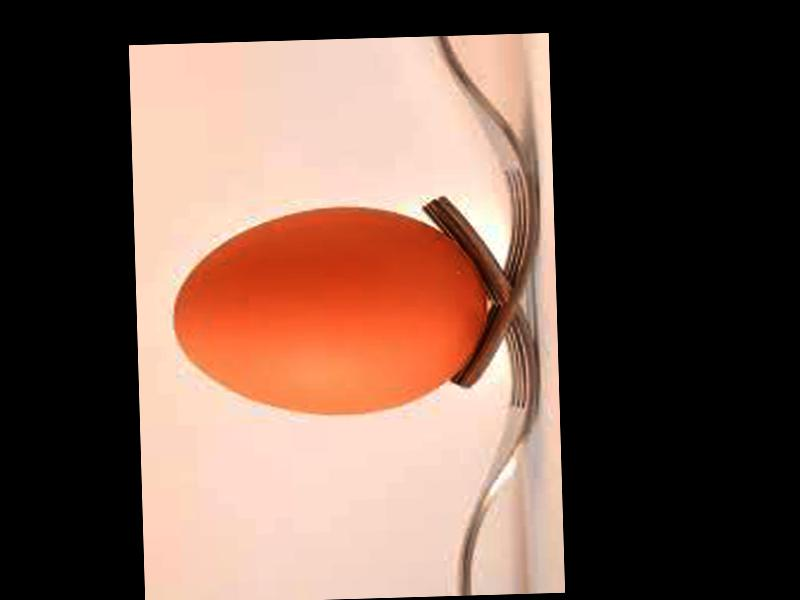Eggs: (171, 204, 489, 419)
